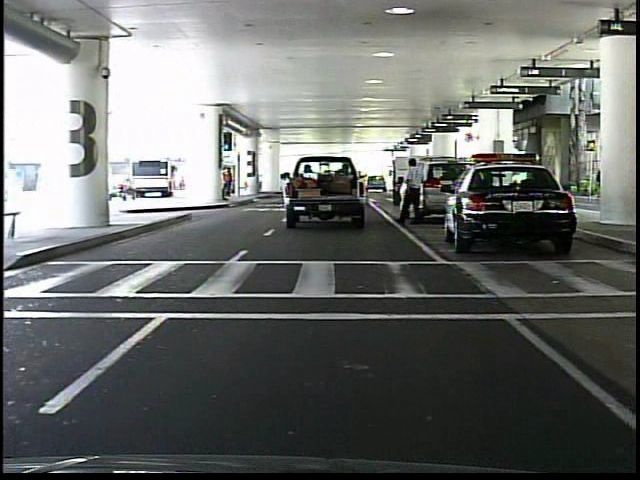person: (396, 156, 432, 228), (223, 160, 237, 202)
